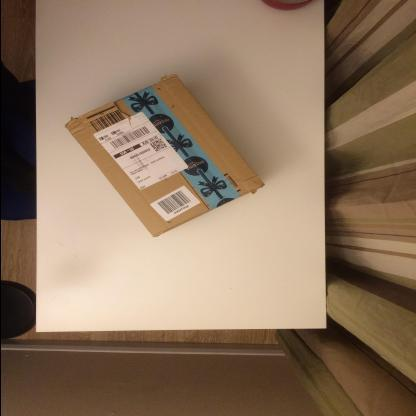karton: (64, 73, 266, 239)
